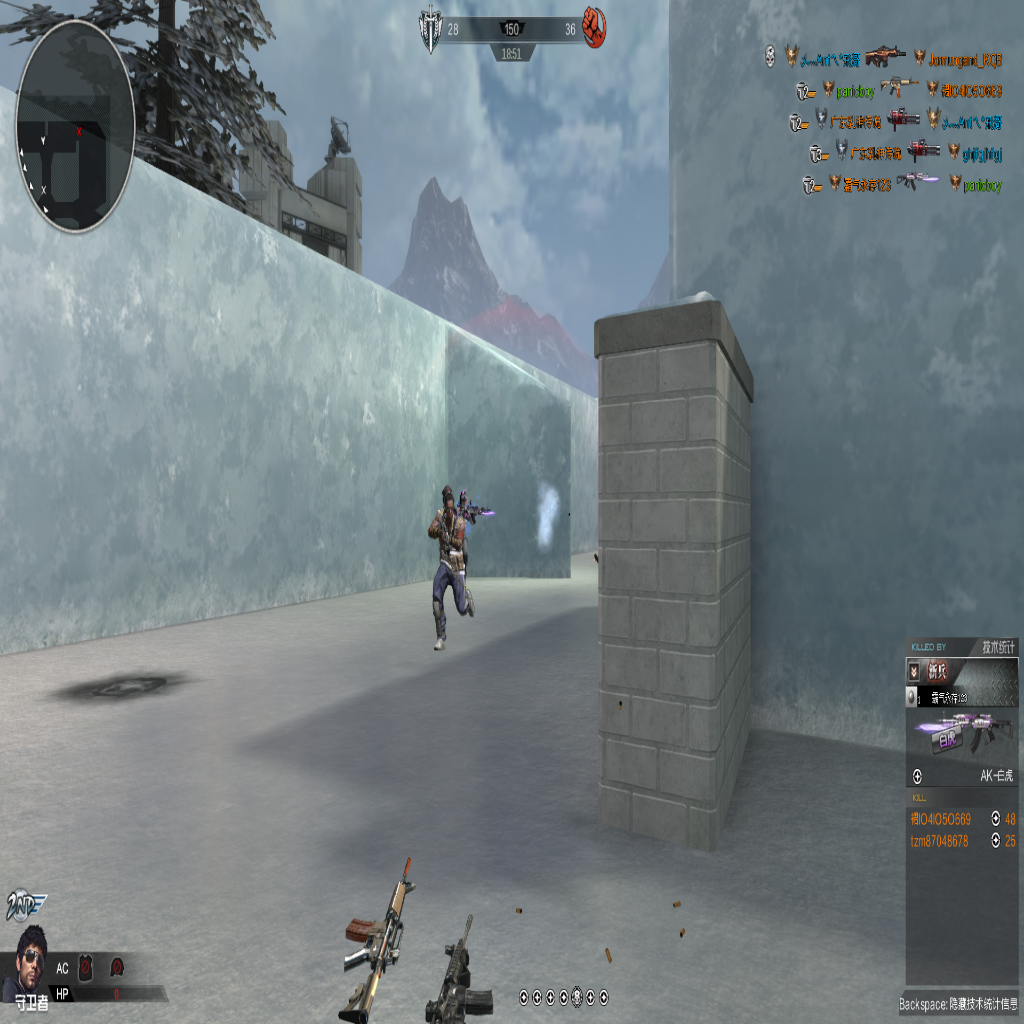tt: (429, 482, 480, 649)
